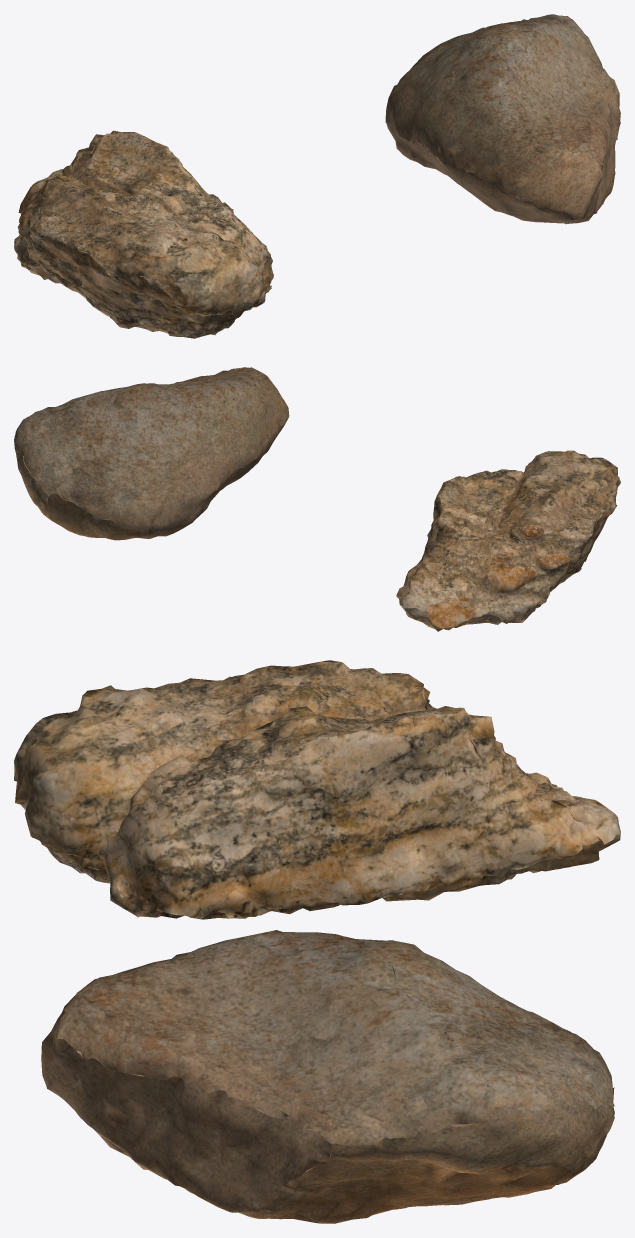
Rendered from namaqualand_boulders_01_lod0.glb.
3 views of the same model, one above another, from view 1: azimuth 30°, elevation 25°; view 2: azimuth 150°, elevation 25°; view 3: azimuth 270°, elevation 25° (orthographic). The views are drawn at different scales.
Parts seen in each view (by area): view 1: namaqualand_rocks_01_a, namaqualand_rocks_01_b; view 2: namaqualand_rocks_01_a, namaqualand_rocks_01_b; view 3: namaqualand_rocks_01_a, namaqualand_rocks_01_b.
Part boxes in pixels (left/top/right/bottom): namaqualand_rocks_01_a: left=385, top=14, right=620, bottom=224; namaqualand_rocks_01_b: left=14, top=130, right=273, bottom=338; namaqualand_rocks_01_a: left=14, top=367, right=289, bottom=540; namaqualand_rocks_01_b: left=396, top=450, right=620, bottom=631; namaqualand_rocks_01_a: left=41, top=930, right=614, bottom=1223; namaqualand_rocks_01_b: left=14, top=660, right=620, bottom=919.
Bounding box in the file's own units: 1.06 × 0.2518 × 0.5837.
Materials: 1 (1 with a texture image).
